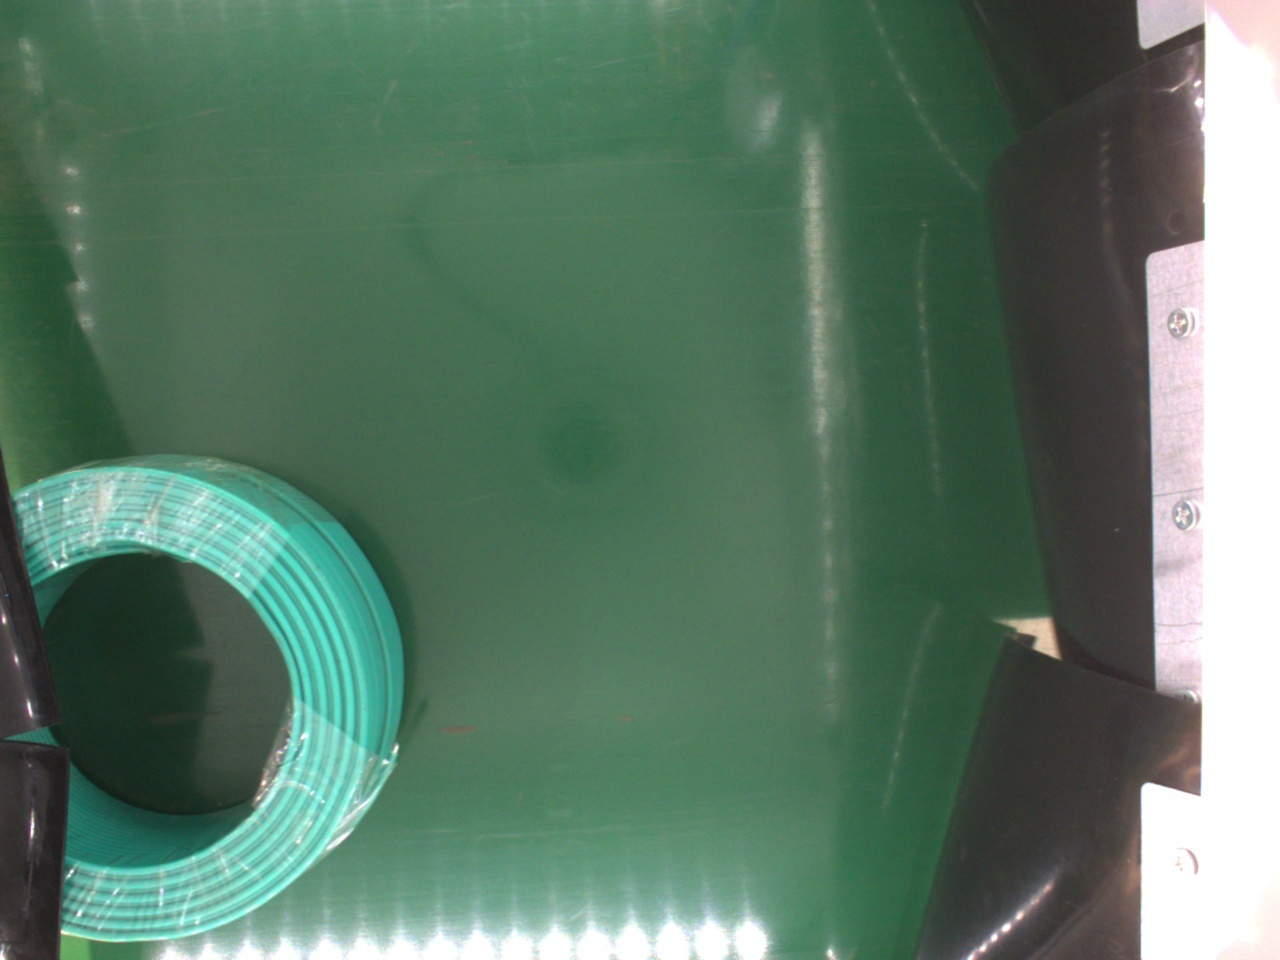green: (9, 451, 399, 942)
